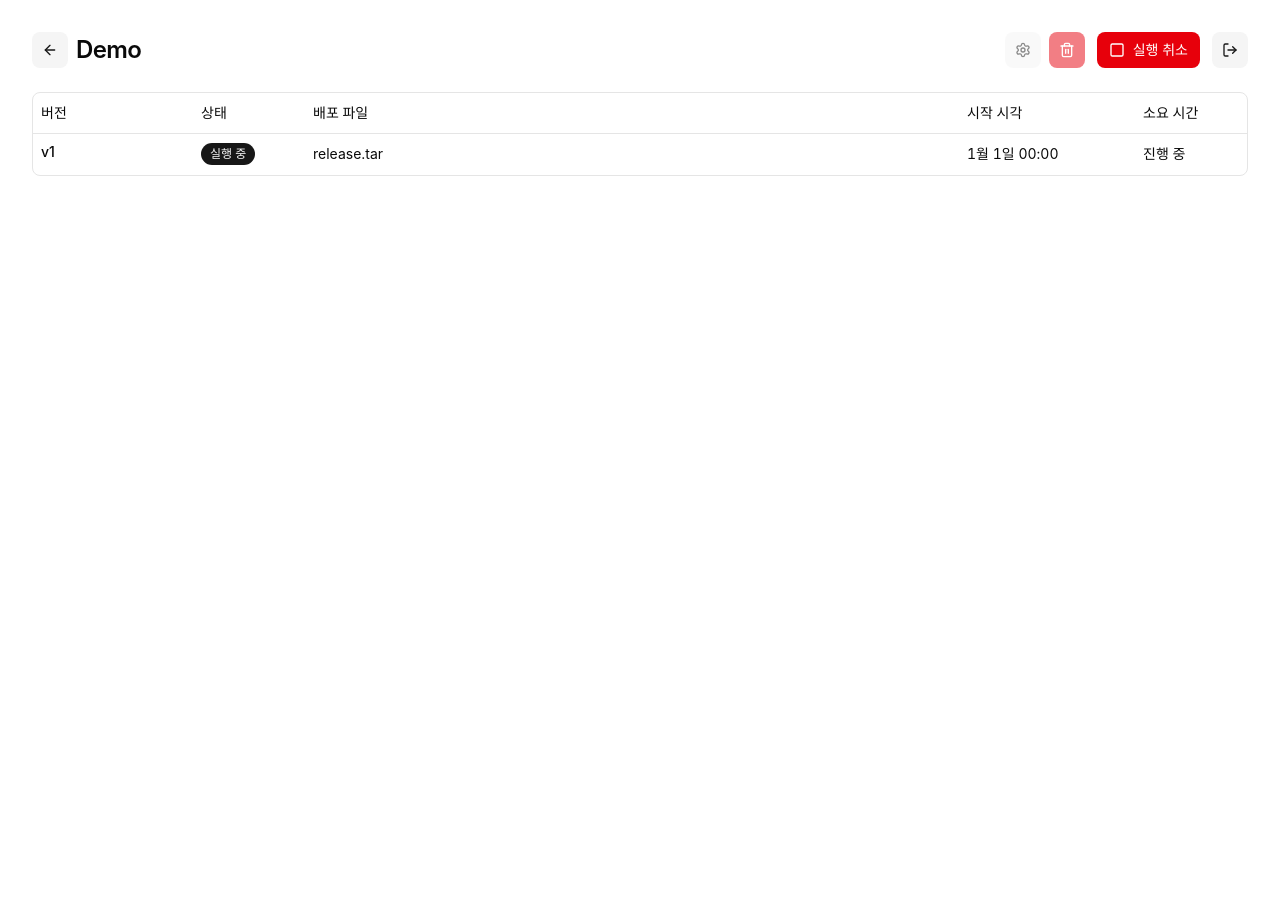
Test case: React deployment console › running logs pause when hidden, resume, then stop at a terminal state
The width and height of the screenshot is (1280, 900).
Expected: the heading "Demo" is shown, left=76, top=32, right=141, bottom=68
Expected: the field labelled "배포 실행 로그" is not shown
Click the link "v1". click: (48, 152)
box: left=41, top=142, right=55, bottom=162
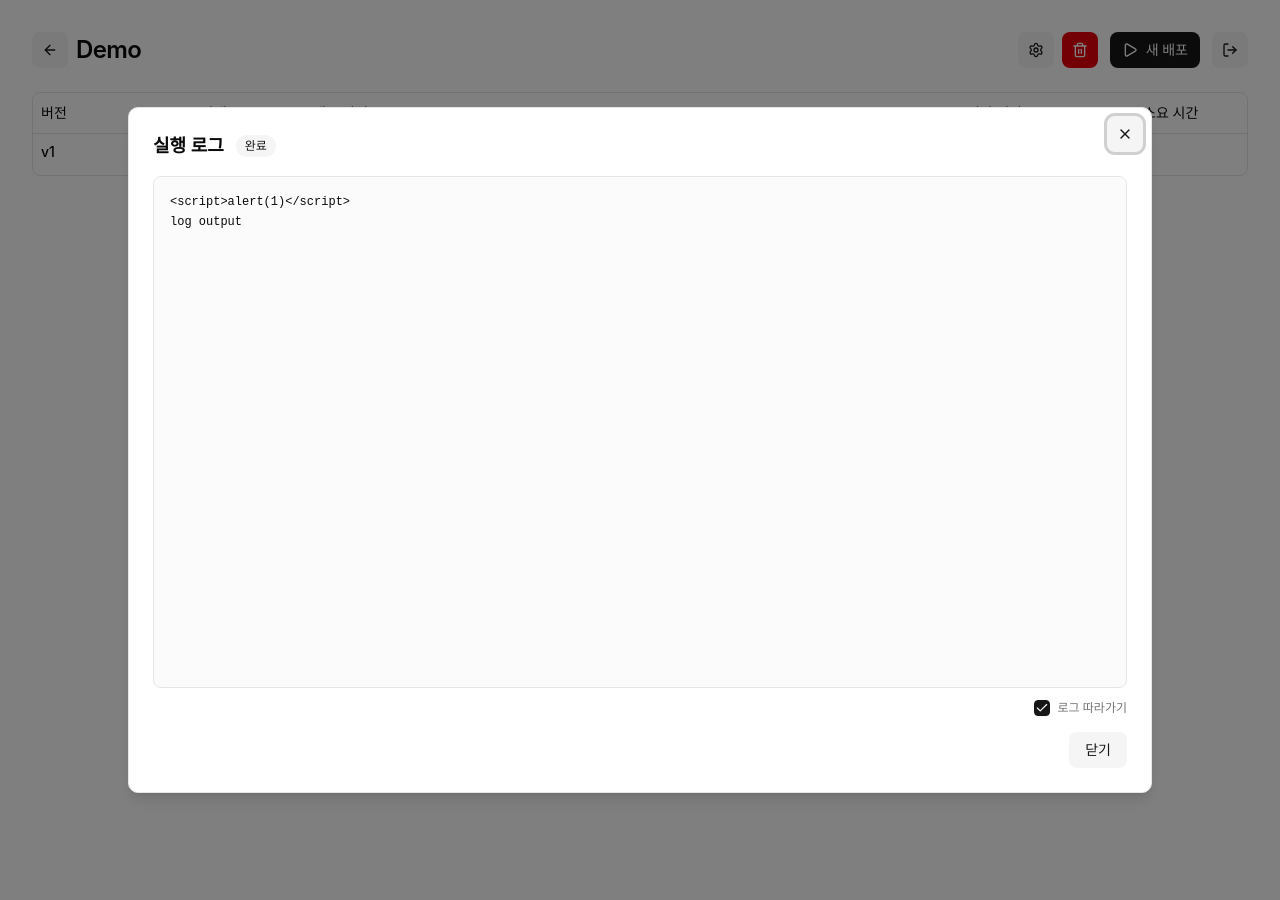
Result: the button with id "cancel-button" is gone
